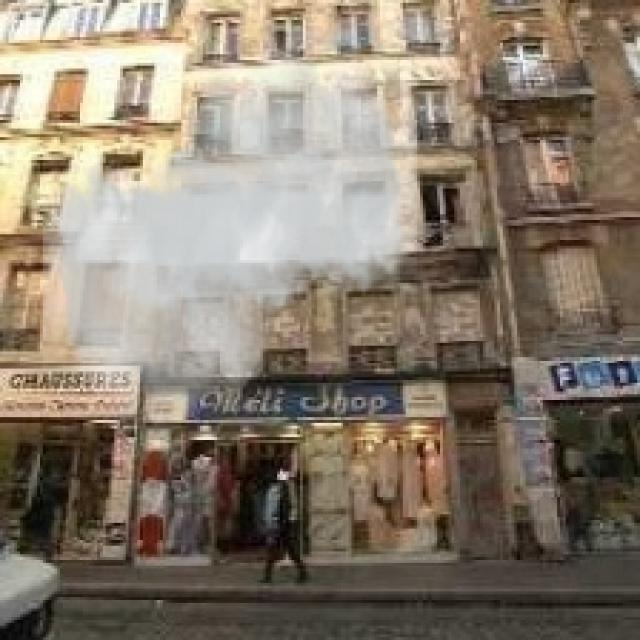smoke: (43, 29, 417, 428)
